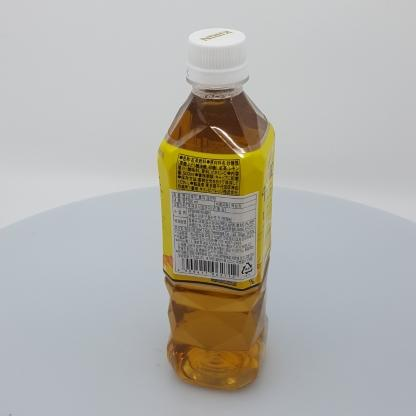--------------500ml: (156, 28, 276, 391)
